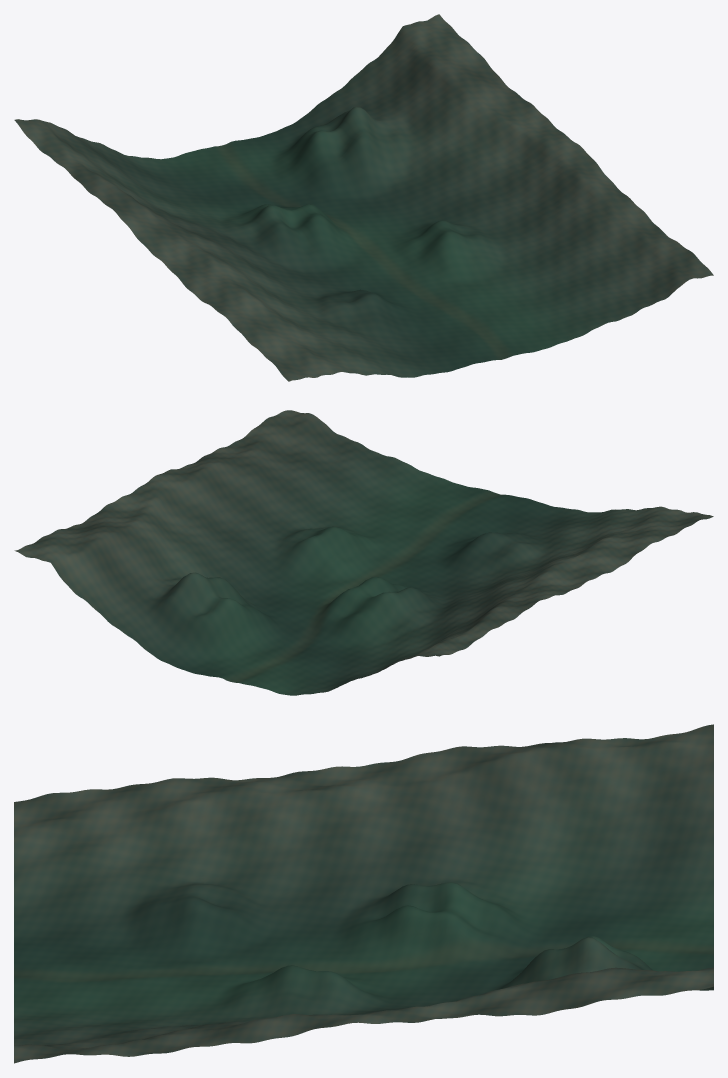
The model's file is life-map-memory-sanctuary-v215.glb.
3 renders of one model, top to bottom at view 1: azimuth 30°, elevation 25°; view 2: azimuth 150°, elevation 25°; view 3: azimuth 270°, elevation 25°, orthographic. The views are drawn at different scales.
Parts seen in each view (by area): view 1: life-map-v215-single-surface-eroded-memory-sanctuary; view 2: life-map-v215-single-surface-eroded-memory-sanctuary; view 3: life-map-v215-single-surface-eroded-memory-sanctuary.
Boxes of the visible parts, <box> form: life-map-v215-single-surface-eroded-memory-sanctuary: <box>14,14,713,381</box>; life-map-v215-single-surface-eroded-memory-sanctuary: <box>14,410,713,695</box>; life-map-v215-single-surface-eroded-memory-sanctuary: <box>14,724,713,1063</box>.
Bounding box in the file's own units: 68 × 14.23 × 76.
1 material, 1 textured.
